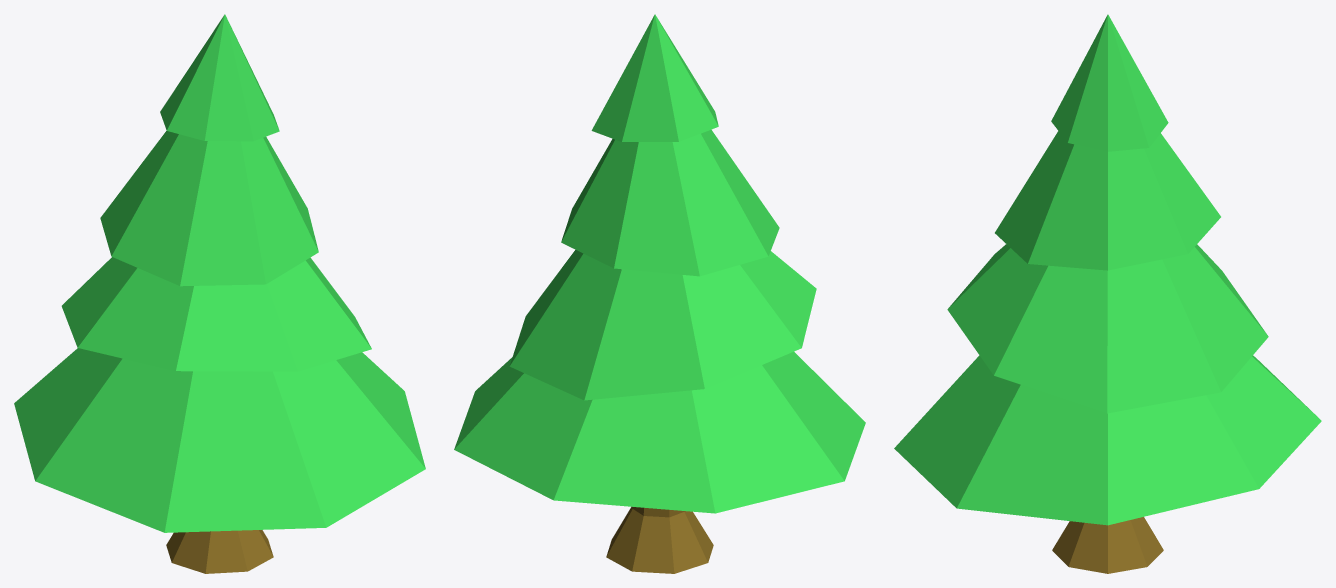
The model's file is Tree1.fbx.
3 renders of one model, left to right at view 1: azimuth 30°, elevation 25°; view 2: azimuth 150°, elevation 25°; view 3: azimuth 270°, elevation 25°, orthographic.
Parts seen in each view (by area): view 1: Cone; view 2: Cone; view 3: Cone.
Boxes of the visible parts, box(x1,y1,x2,y2) form: Cone: box(14, 14, 425, 573); Cone: box(454, 14, 865, 573); Cone: box(894, 14, 1321, 573).
Size of the model in its own units: 7720 by 10698 by 7701.
